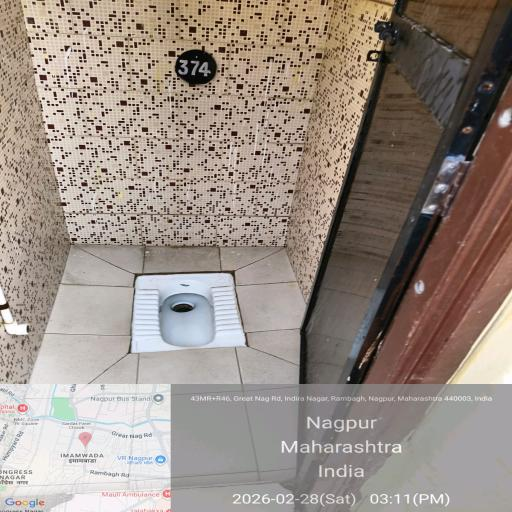clean_floor: (0, 0, 374, 231), (393, 6, 465, 209), (327, 239, 386, 365)
partial_dirty_floor: (43, 242, 314, 376)
